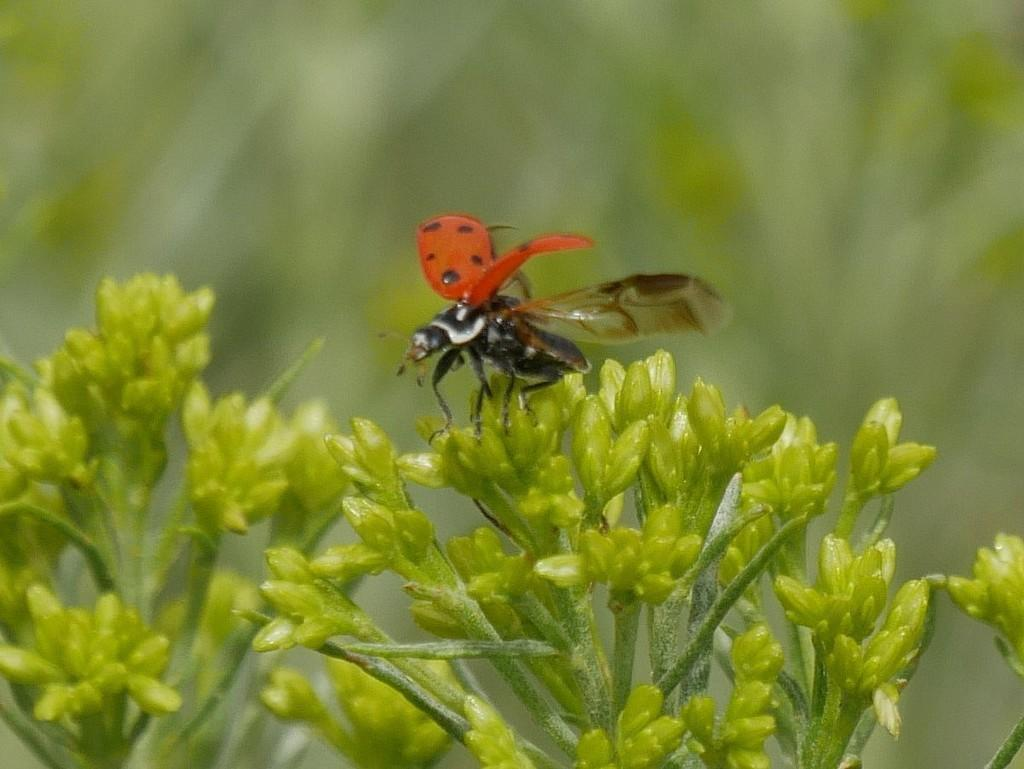ladybug: (375, 213, 737, 449)
